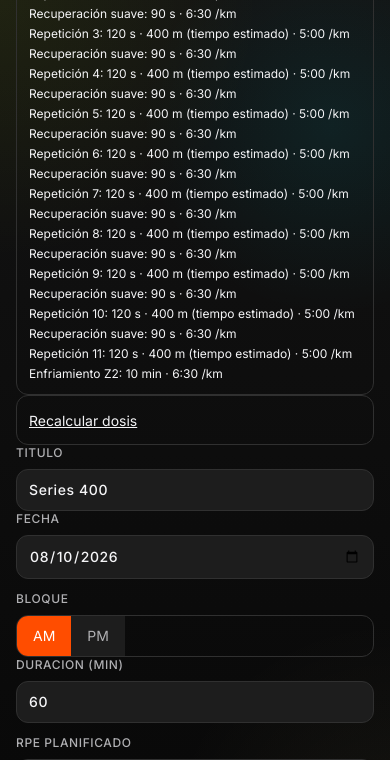
it: A3: una receta antigua sin procedencia se recalcula con hold y lo declara
(page scrolled)
Click the button "Recalcular dosis": [83, 421] box [29, 411, 137, 431]
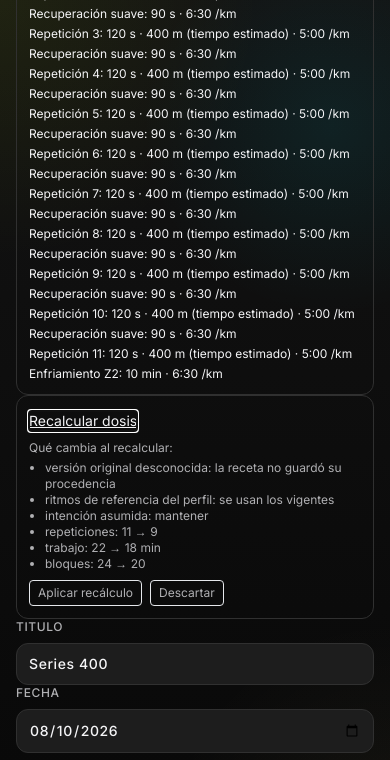
Expected: the element with test id "running-recalc-diff" shows "versión original desconocida", [45, 460, 342, 491]
Expected: the element with test id "running-recalc-diff" shows "intención asumida: mantener", [45, 508, 209, 523]
